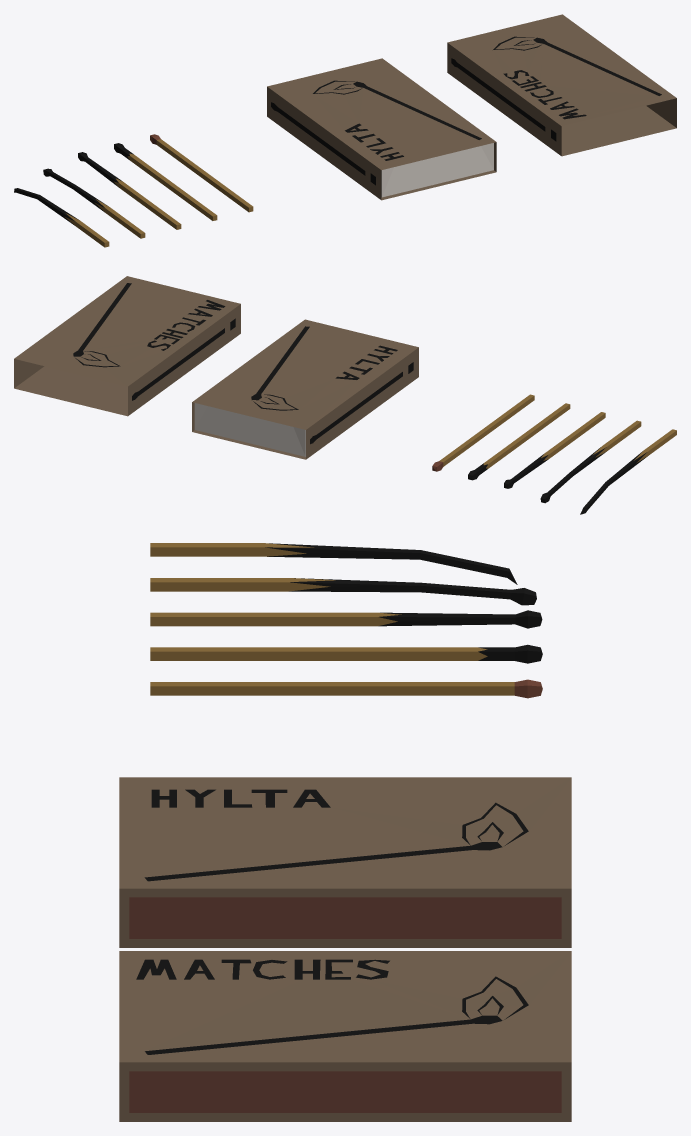
Rendered from matches.fbx.
3 views of the same model, one above another, from view 1: azimuth 30°, elevation 25°; view 2: azimuth 150°, elevation 25°; view 3: azimuth 270°, elevation 25° (orthographic). The views are drawn at different scales.
Visible parts, largest first — view 1: outside_generic, outside_original, inside, unused, burnt_1, burnt_2, burnt_3, burnt_4; view 2: outside_generic, outside_original, inside, unused, burnt_1, burnt_2, burnt_3, burnt_4; view 3: outside_generic, outside_original, burnt_1, unused, burnt_2, burnt_3, burnt_4.
Boxes of the visible parts, box(x1,y1,x2,y2) form: outside_generic: box(447, 14, 676, 156); outside_original: box(267, 58, 496, 200); inside: box(381, 143, 493, 197); unused: box(150, 134, 253, 212); burnt_1: box(114, 143, 217, 220); burnt_2: box(78, 152, 181, 229); burnt_3: box(43, 168, 145, 238); burnt_4: box(14, 188, 109, 247); outside_generic: box(14, 276, 240, 416); outside_original: box(192, 319, 418, 459); inside: box(194, 403, 305, 456); unused: box(432, 394, 534, 471); burnt_1: box(468, 403, 570, 480); burnt_2: box(504, 412, 605, 488); burnt_3: box(540, 420, 641, 503); burnt_4: box(580, 429, 676, 514); outside_generic: box(119, 951, 571, 1121); outside_original: box(119, 777, 571, 947); burnt_1: box(150, 644, 542, 663); unused: box(150, 679, 542, 698); burnt_2: box(150, 610, 542, 628); burnt_3: box(150, 578, 536, 605); burnt_4: box(150, 543, 517, 584).
Bounding box in the file's own units: 31.32 × 1.67 × 11.
